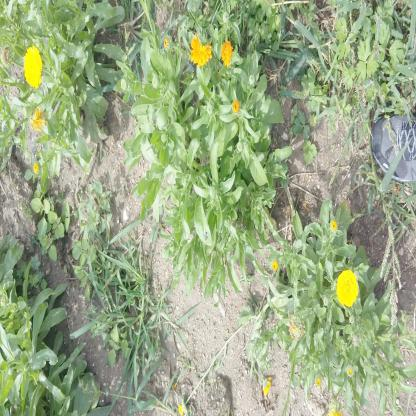marigold: (24, 48, 42, 90), (337, 272, 357, 306), (191, 34, 212, 65)
